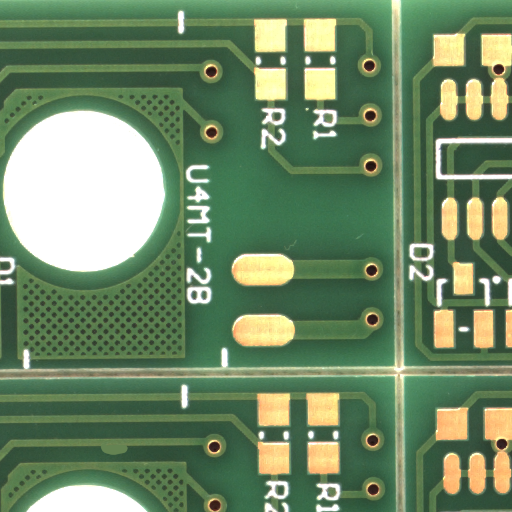Spur: (115, 449, 150, 461)
